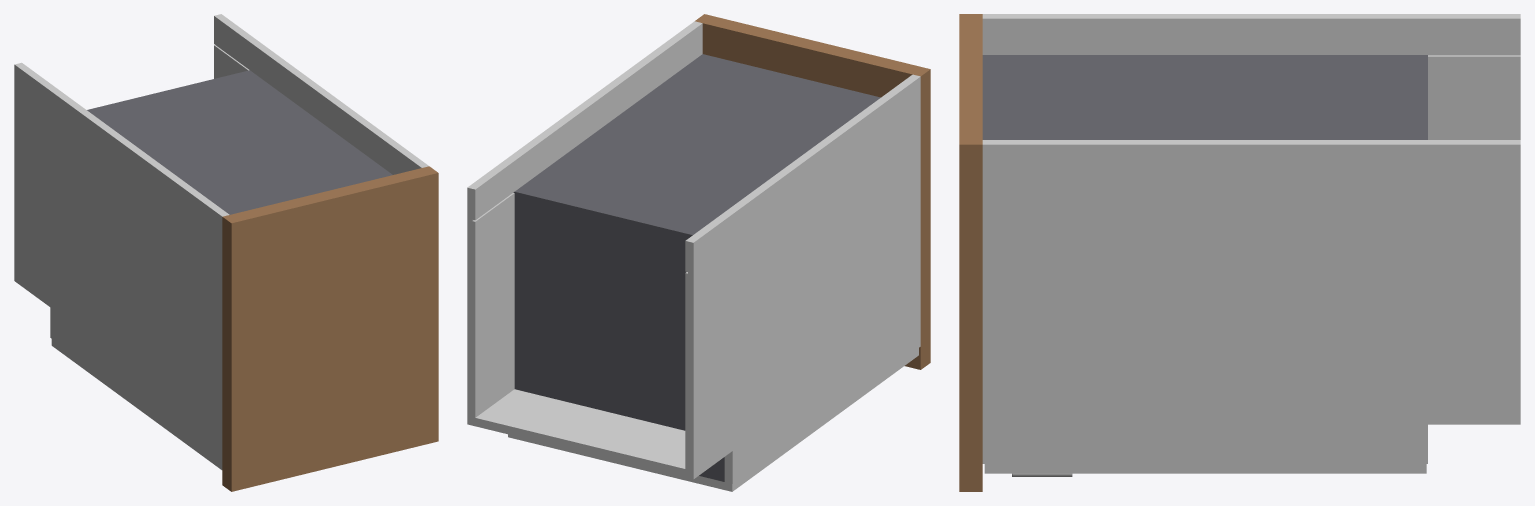
File: Kitchen Cabinets_50CM Highline Cabinet.obj
3 renders of one model, left to right at view 1: azimuth 30°, elevation 25°; view 2: azimuth 150°, elevation 25°; view 3: azimuth 270°, elevation 25°, orthographic. The views are drawn at different scales.
Parts seen in each view (by area): view 1: Worktop_(3), LH_Panel_(3), BackPanel_(3), RH_Panel_(3), Door_(3); view 2: LH_Panel_(3), Bottom_Shelf_(3), BackPanel_(3), RH_Panel_(3), Worktop_(3), Plinth_(3), Door_(3); view 3: RH_Panel_(3), BackPanel_(3), LH_Panel_(3), Worktop_(3), Door_(3), Plinth_(3).
Boxes of the visible parts, x1,y1,x2,y2 form: Worktop_(3): [222, 166, 438, 491]; LH_Panel_(3): [14, 62, 229, 462]; BackPanel_(3): [87, 70, 392, 214]; RH_Panel_(3): [214, 14, 428, 174]; Door_(3): [51, 339, 222, 469]; LH_Panel_(3): [685, 74, 920, 483]; Bottom_Shelf_(3): [514, 193, 724, 481]; BackPanel_(3): [513, 54, 880, 236]; RH_Panel_(3): [467, 21, 702, 417]; Worktop_(3): [695, 14, 930, 369]; Plinth_(3): [467, 389, 732, 479]; Door_(3): [508, 348, 918, 491]; RH_Panel_(3): [982, 140, 1520, 463]; BackPanel_(3): [982, 55, 1427, 139]; LH_Panel_(3): [982, 14, 1520, 139]; Worktop_(3): [959, 14, 982, 491]; Door_(3): [984, 464, 1426, 473]; Plinth_(3): [1428, 414, 1520, 424].
Bounding box in the file's own units: 0.5 × 0.62 × 0.908.
